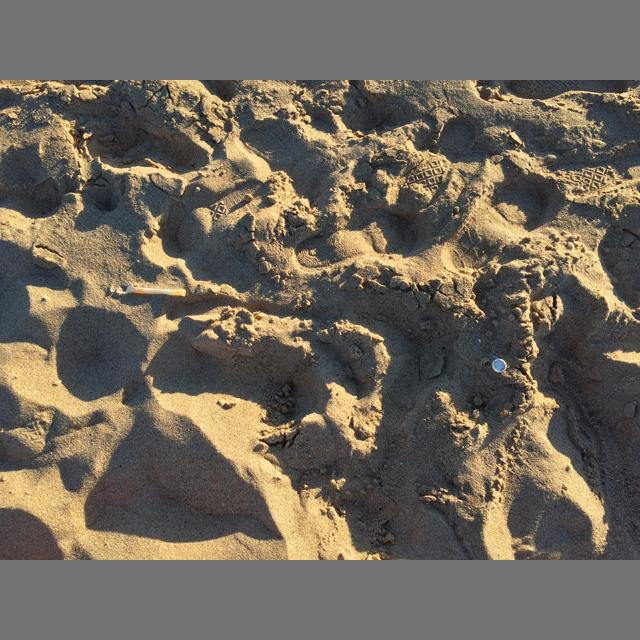litter: (110, 284, 186, 296), (491, 356, 507, 373)
